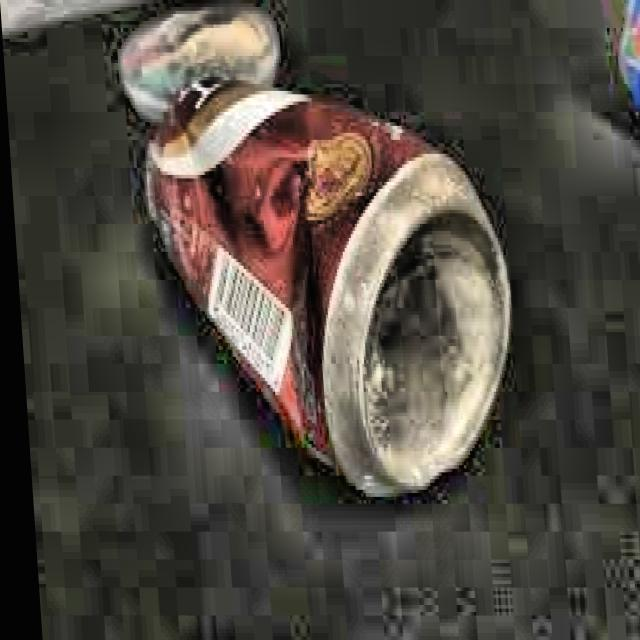can: (123, 56, 524, 506)
